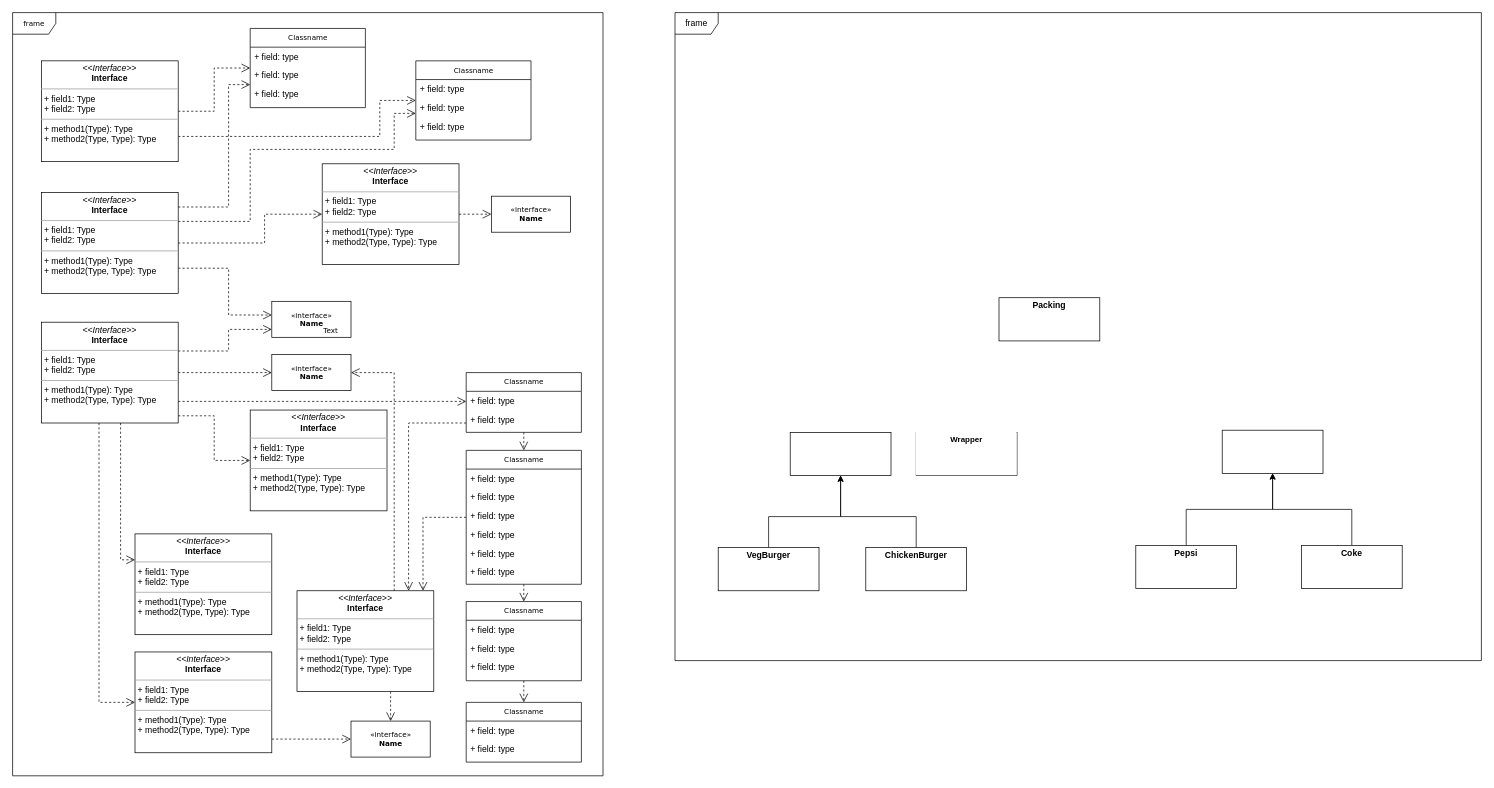
Some shapes in this 1494 by 788 pixel diagram are drawn without their labels. The box of each missing label's shape, as (x1, y1, x2, y2) in pixels:
Burger: (789, 432, 891, 476)
ColdDrink: (1221, 429, 1323, 473)
